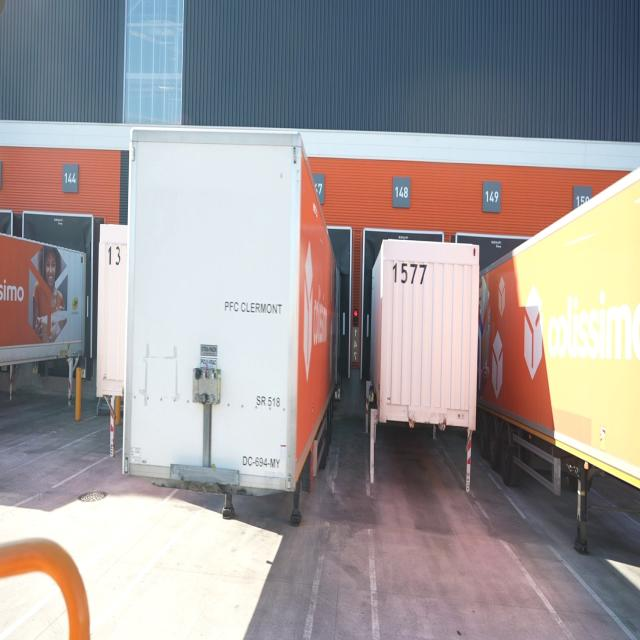Code: (390, 261, 429, 291)
